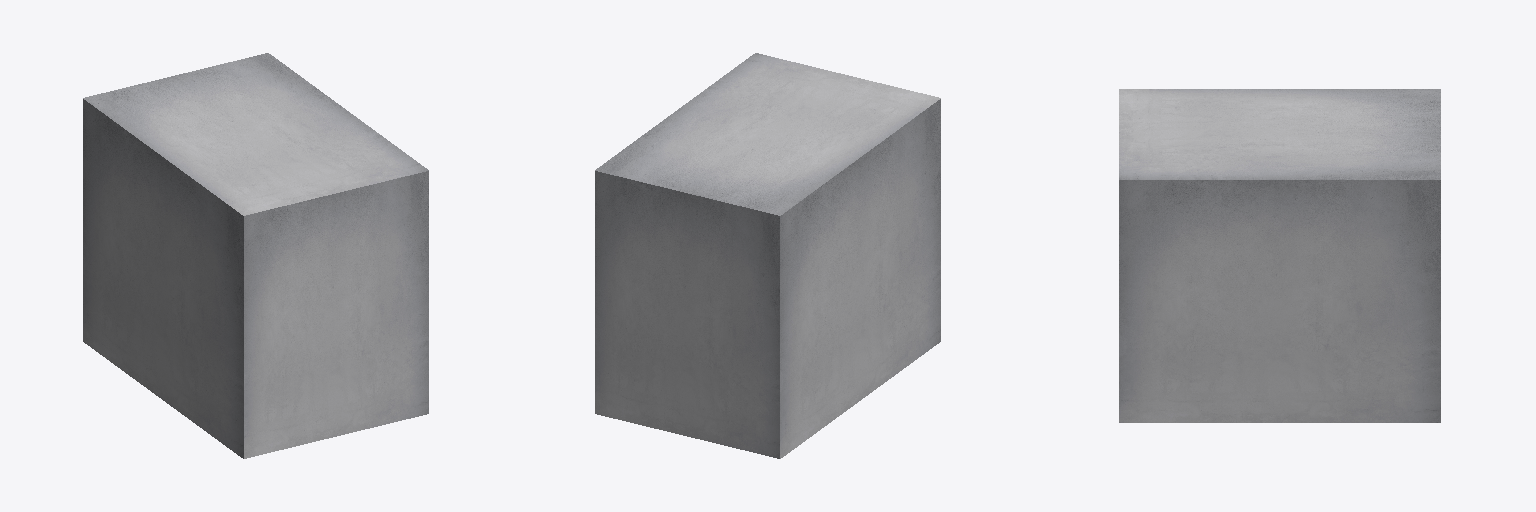
3 views of the same model, side by side, from view 1: azimuth 30°, elevation 25°; view 2: azimuth 150°, elevation 25°; view 3: azimuth 270°, elevation 25° (orthographic).
Parts seen in each view (by area): view 1: 2x3x2,5; view 2: 2x3x2,5; view 3: 2x3x2,5.
Part boxes in pixels (bbox=[...]): 2x3x2,5: bbox=[83, 53, 428, 458]; 2x3x2,5: bbox=[595, 53, 940, 458]; 2x3x2,5: bbox=[1119, 89, 1440, 422].
Size of the model in its own units: 2 by 2.5 by 3.
1 materials, 1 textured.